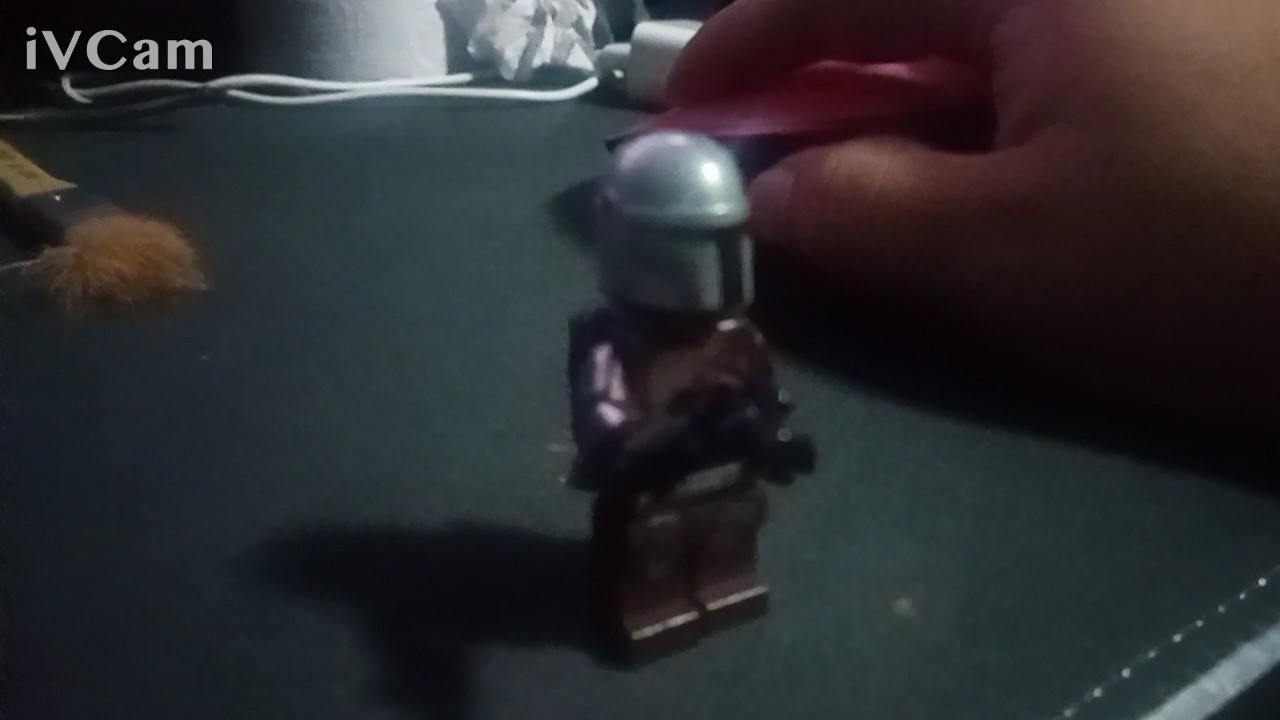mandalorian: (557, 133, 806, 661)
